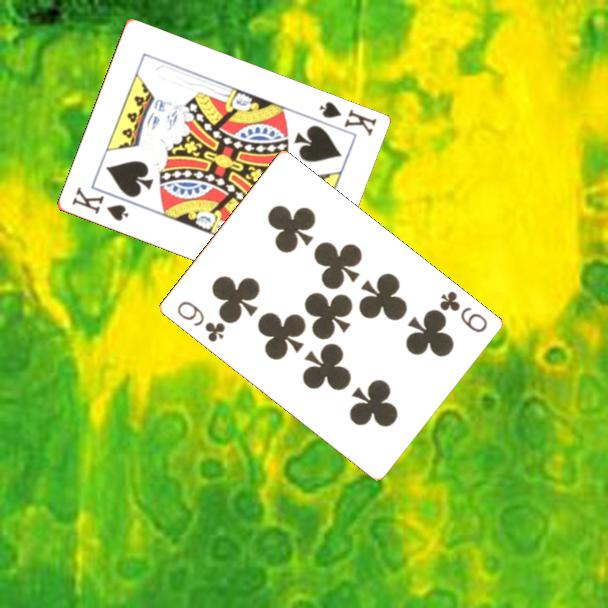c09: (435, 287, 490, 336), (173, 297, 228, 345)
s13: (68, 183, 132, 224), (315, 98, 379, 139)
